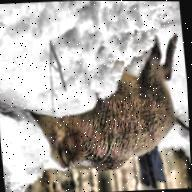boar: (23, 42, 191, 175)
